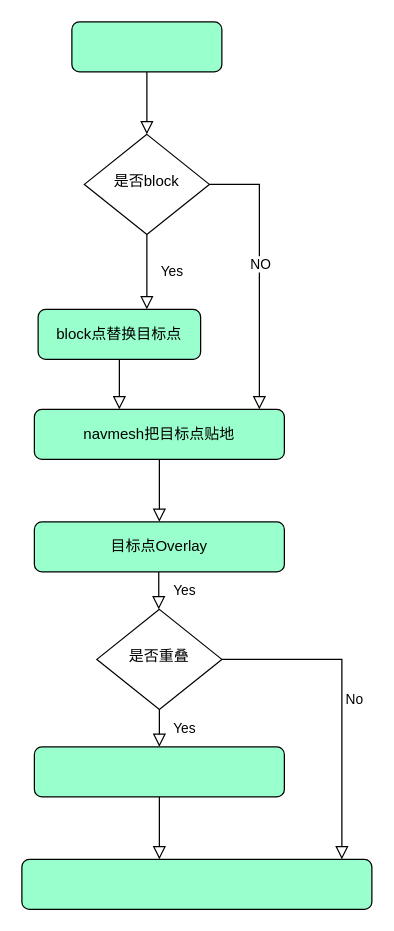
The diagram is 394 pixels wide and 931 high, and some of its shapes have lost their labels. Each missing label, with the box of its shape:
Raycast: (71, 21, 222, 72)
反向sweep，拉出地形: (33, 746, 284, 797)
最后一次贴地，输出结果: (21, 858, 372, 909)
